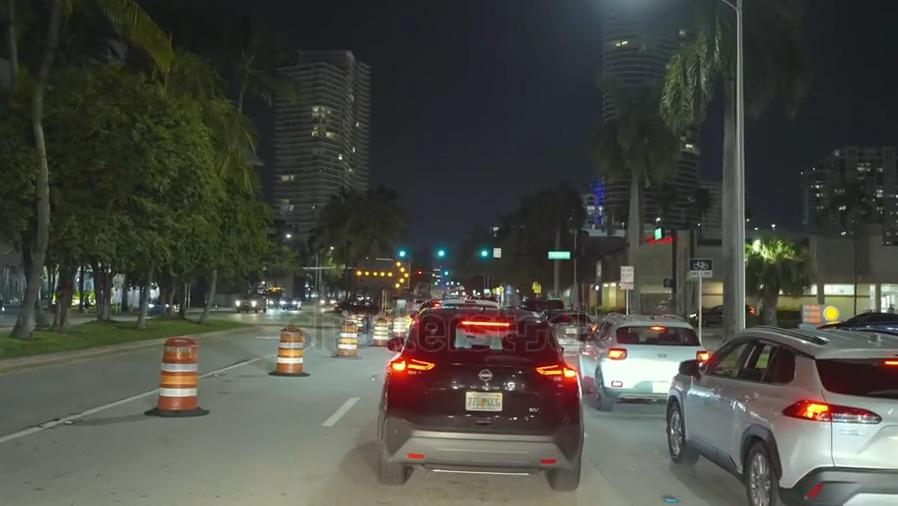arrow traffic sign: (349, 258, 414, 293)
car: (677, 325, 898, 506), (377, 304, 583, 487), (579, 311, 701, 411), (831, 307, 898, 339), (545, 304, 595, 343), (687, 299, 758, 324), (334, 296, 390, 319), (231, 291, 268, 317), (145, 295, 184, 315), (281, 298, 299, 311), (267, 295, 279, 309), (318, 296, 333, 307)
cone: (159, 334, 199, 414), (275, 322, 304, 375), (337, 317, 356, 361), (369, 315, 387, 345), (391, 310, 407, 336)
traffic light: (426, 243, 451, 264), (475, 243, 491, 266), (393, 244, 410, 265)
wheel: (745, 435, 778, 506), (660, 398, 691, 463)
